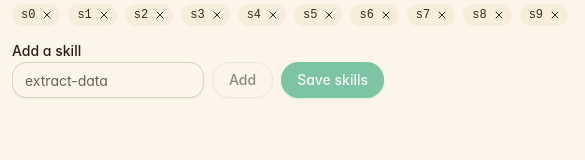
SkillsEditor › refuses bad skills and an 11th skill
The image size is (585, 160).
Type "bad_skill!" into the field labelled "Add a skill".
click(108, 80); type("bad_skill!")  # box [12, 62, 204, 98]
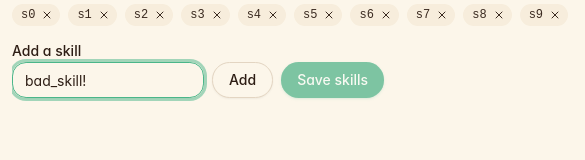
Click the button "Add".
click(243, 80)  # box [212, 62, 273, 98]
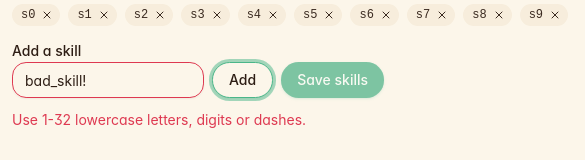
Check: the message shows "lowercase letters", box [12, 111, 306, 128]
Replace the text in the field labelled "Add a skill" with "eleven" at (108, 80), box [12, 62, 204, 98]
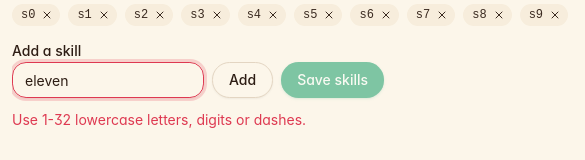
Click the button "Add".
click(243, 80)  # box [212, 62, 273, 98]
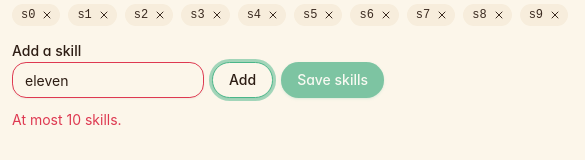
Check: the message shows "At most 10", box [12, 111, 122, 128]
